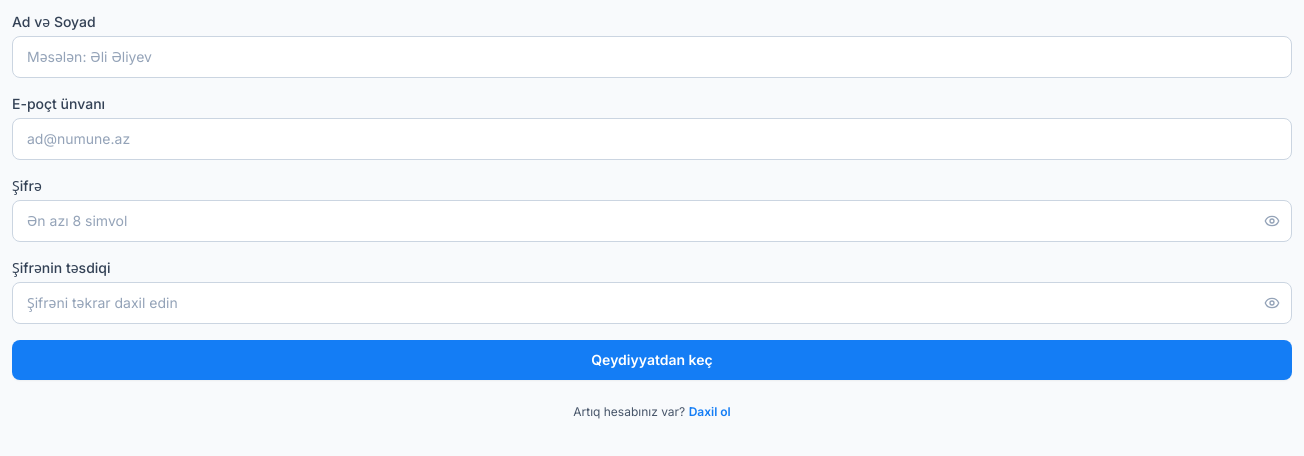
Test: RegisterForm Component › rejects password shorter than 8 characters
Type "Əli Əliyev" into the field labelled "Ad və Soyad".
click(652, 57); type("Əli Əliyev")  # box x1=12 y1=36 x2=1292 y2=78
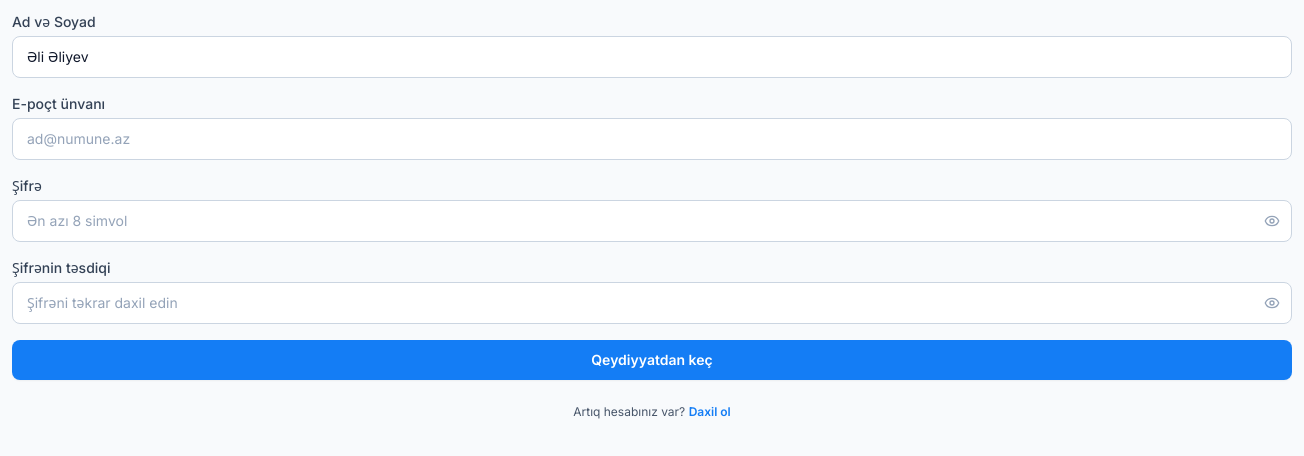
Type "ali@feedlab.az" into the field labelled "E-poçt ünvanı".
click(652, 139); type("ali@feedlab.az")  # box x1=12 y1=118 x2=1292 y2=160
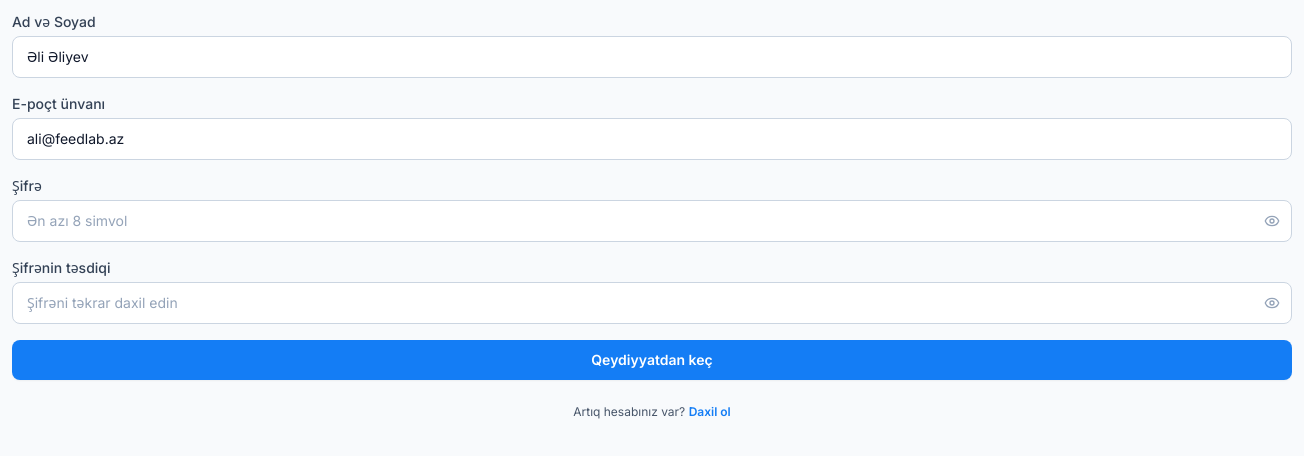
Type "123" into the password field labelled "Şifrə".
click(652, 221); type("123")  # box x1=12 y1=200 x2=1292 y2=242
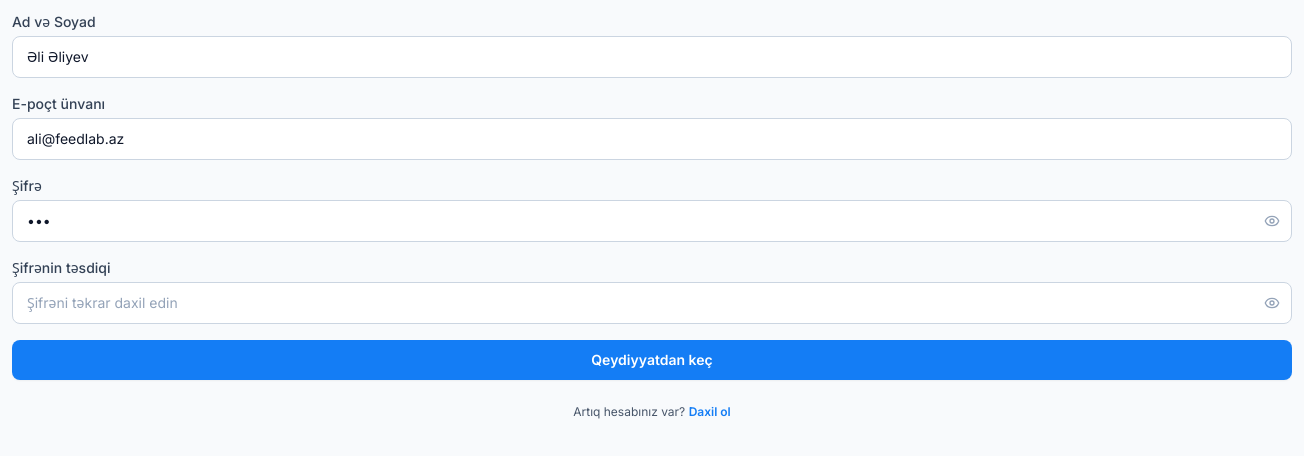
Type "123" into the password field labelled "Şifrənin təsdiqi".
click(652, 303); type("123")  # box x1=12 y1=282 x2=1292 y2=324
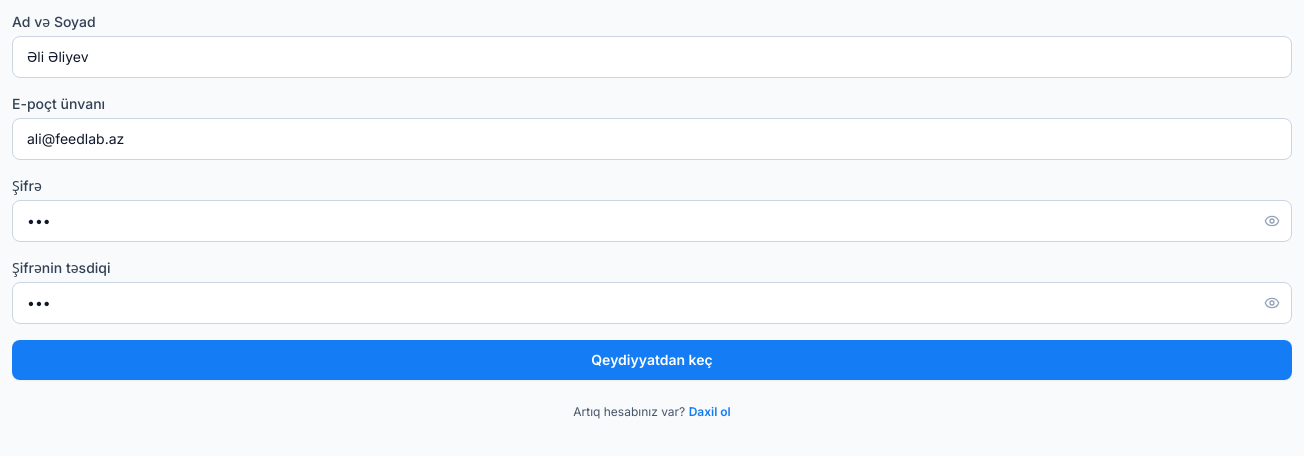
Click the button "Qeydiyyatdan keç".
click(652, 360)  # box x1=12 y1=340 x2=1292 y2=380
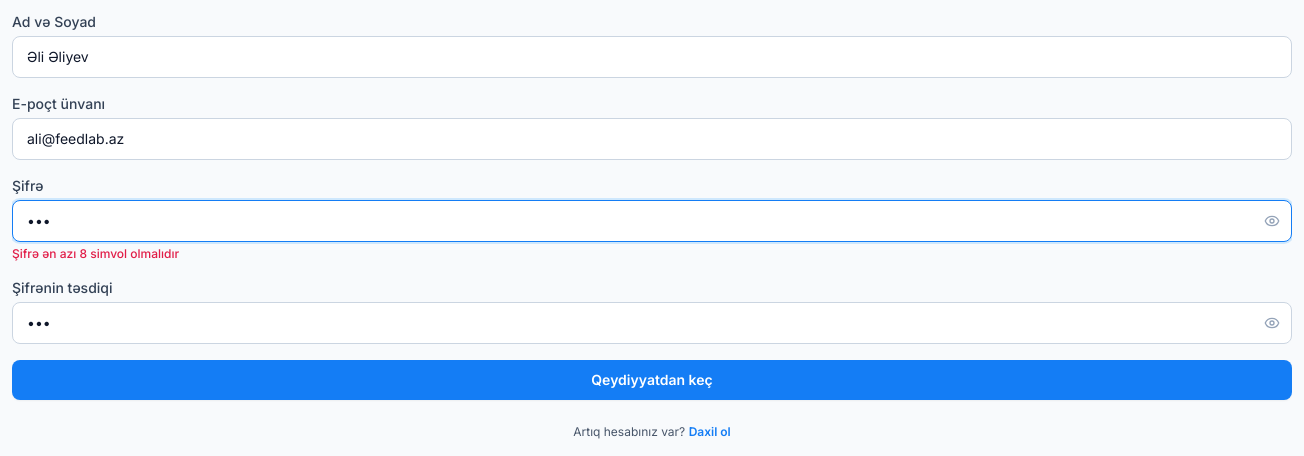
Expected: the text "Şifrə ən azı 8 simvol olmalıdır" is shown, x1=12 y1=246 x2=179 y2=261
